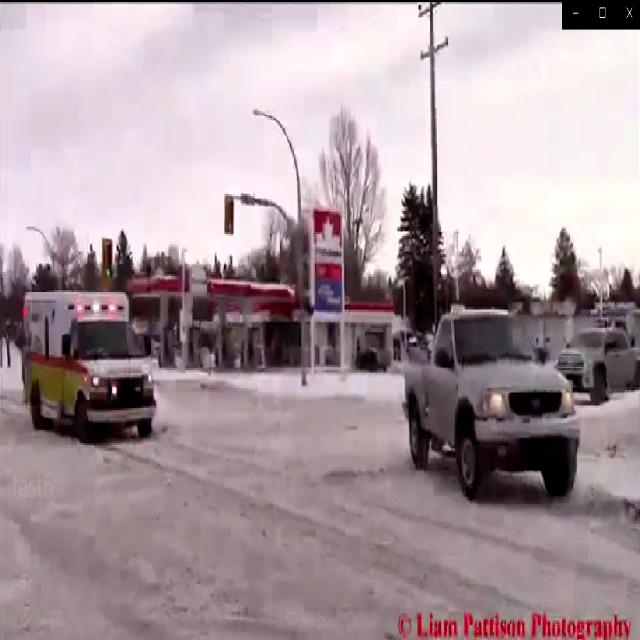emergency: (19, 288, 158, 444)
